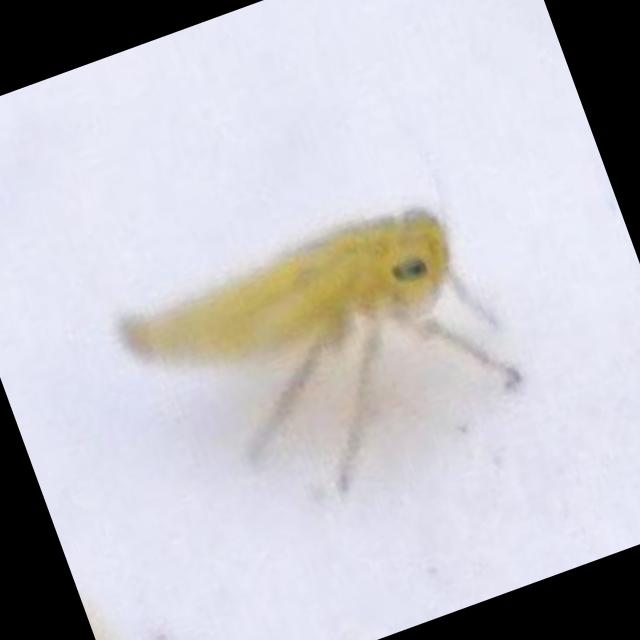green-leafhopper: (100, 174, 501, 467)
